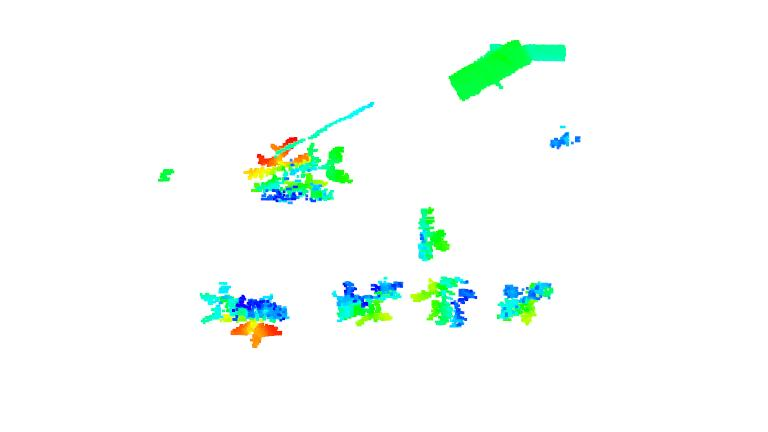chickpea: (247, 136, 356, 202), (197, 281, 290, 347), (330, 277, 406, 327), (411, 276, 478, 328), (494, 277, 554, 325), (412, 205, 451, 261)
